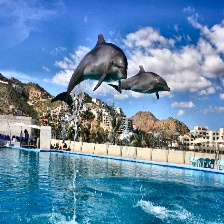dolphin: (67, 34, 128, 95)
